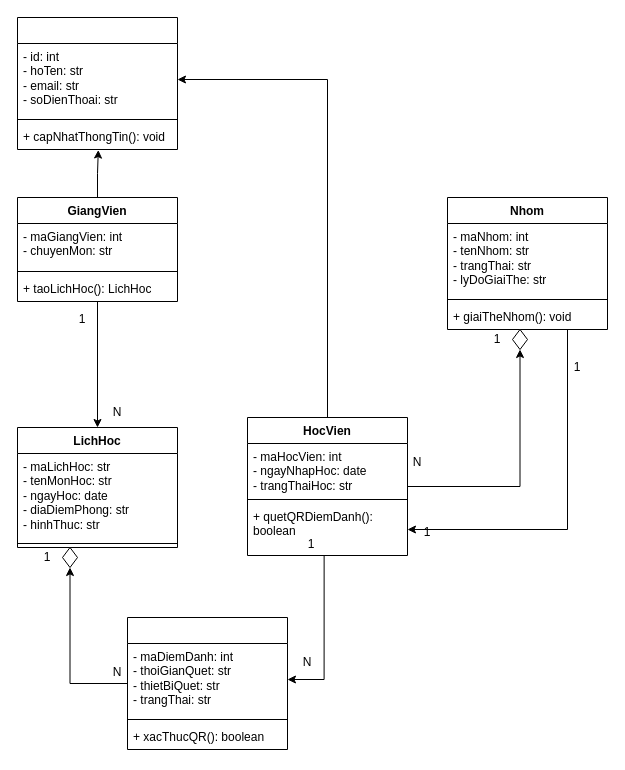
This 625x770 diagram has some shape labels left out. The shapes that lost their labels are listed below. From the top down, each one's box as (x1, y1, x2, y2) in pixels, then its label:
(16, 16, 178, 150): NguoiDung
(126, 616, 288, 750): DiemDanhQR
